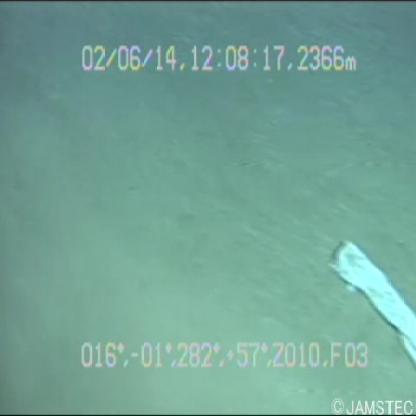Rác: (324, 224, 416, 369)
